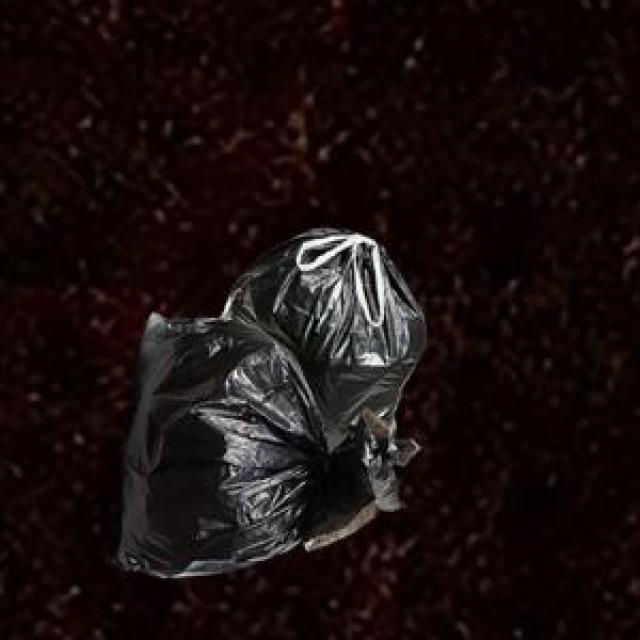Vinyl: (118, 230, 425, 577)
